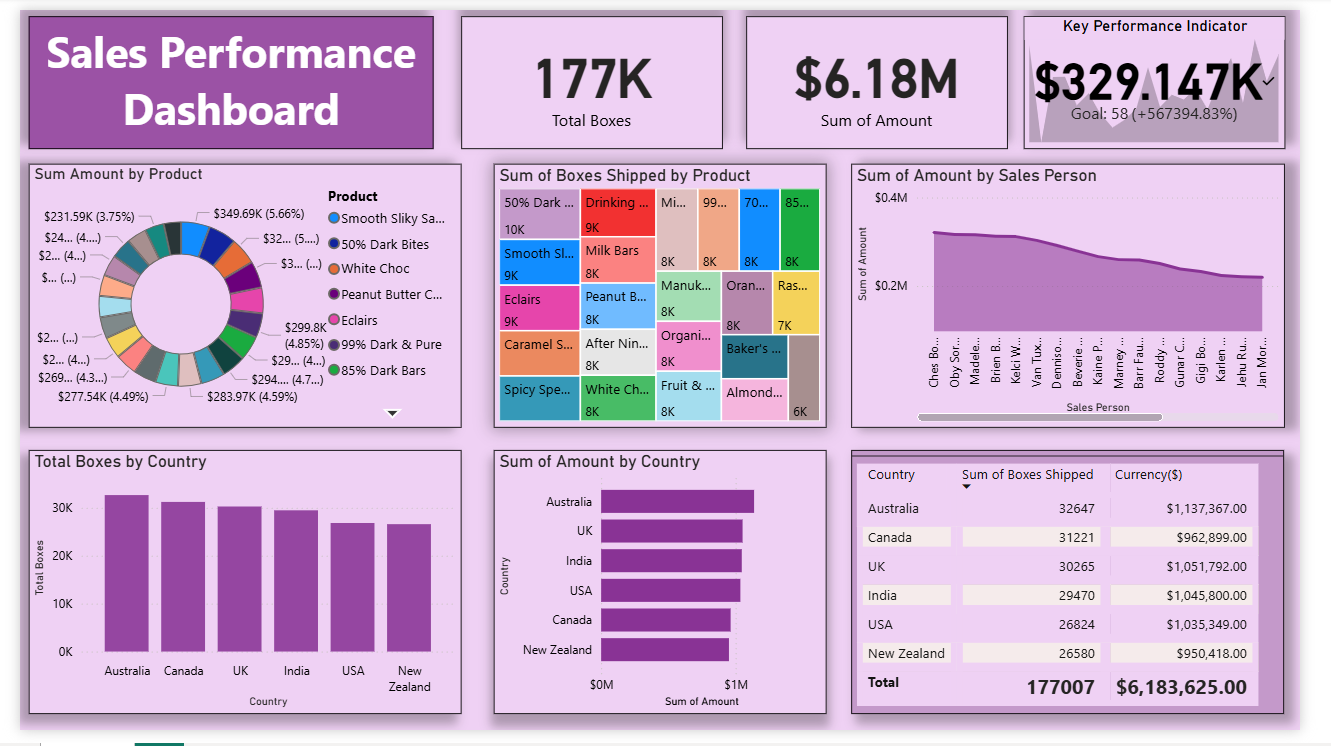

The page's visual inventory and layout, read from the dashboard file:
{"tool":"powerbi","page":{"name":"Page 1","canvas":[1280,720],"ordinal":0},"visuals":[{"type":"pivotTable","fields":{"Values":["Sales_Data.Boxes Shipped","Sales_Data.Currency($)"],"Rows":["Sales_Data.Country"]},"box":[831.2,440,432.5,263.8],"z":0},{"type":"card","fields":{"Values":["Sales_Data.Amount"]},"box":[726.2,6.2,261.2,132.5],"z":1000},{"type":"clusteredBarChart","fields":{"Y":["Sales_Data.Amount"],"Category":["Sales_Data.Country"]},"box":[473.8,440,332.5,263.8],"z":2000},{"type":"lineChart","fields":{"Category":["Sales_Data.Sales Person"],"Y":["Sales_Data.Amount"]},"box":[831.2,153.8,433.8,263.8],"z":3000},{"type":"textbox","box":[8.8,6.2,405,132.5],"z":4000},{"type":"columnChart","fields":{"Y":["Sales_Data.Total Boxes"],"Category":["Sales_Data.Country"]},"box":[8.8,440,432.5,263.8],"z":5000},{"type":"card","fields":{"Values":["Sales_Data.Total Boxes"]},"box":[441.2,6.2,261.2,132.5],"z":6000},{"type":"kpi","title":"Key Performance Indicator","fields":{"TrendLine":["Sales_Data.Product"],"Indicator":["Sales_Data.Amount"],"Goal":["Sales_Data.Country"]},"box":[1003.8,6.2,261.2,132.5],"z":7000},{"type":"donutChart","title":"Sum Amount by Product","fields":{"Y":["Sales_Data.Amount"],"Category":["Sales_Data.Product"]},"box":[8.8,153.8,432.5,263.8],"z":8000},{"type":"treemap","fields":{"Details":["Sales_Data.Product"],"Values":["Sales_Data.Boxes Shipped"]},"box":[473.8,153.8,332.5,263.8],"z":9000}]}

Visuals, with their boxes in screenshot pixels (x1, y1, x2, y2), scaled from the page's 1280x720 canvas onto the 1331x746 screenshot:
pivotTable - Sales_Data.Boxes Shipped x Sales_Data.Currency($): [864, 456, 1314, 729]
card - Sales_Data.Amount: [755, 6, 1027, 144]
clusteredBarChart - Sales_Data.Amount x Sales_Data.Country: [493, 456, 838, 729]
lineChart - Sales_Data.Sales Person x Sales_Data.Amount: [864, 159, 1315, 433]
textbox: [9, 6, 430, 144]
columnChart - Sales_Data.Total Boxes x Sales_Data.Country: [9, 456, 459, 729]
card - Sales_Data.Total Boxes: [459, 6, 730, 144]
"Key Performance Indicator" kpi: [1044, 6, 1315, 144]
"Sum Amount by Product" donutChart: [9, 159, 459, 433]
treemap - Sales_Data.Product x Sales_Data.Boxes Shipped: [493, 159, 838, 433]
